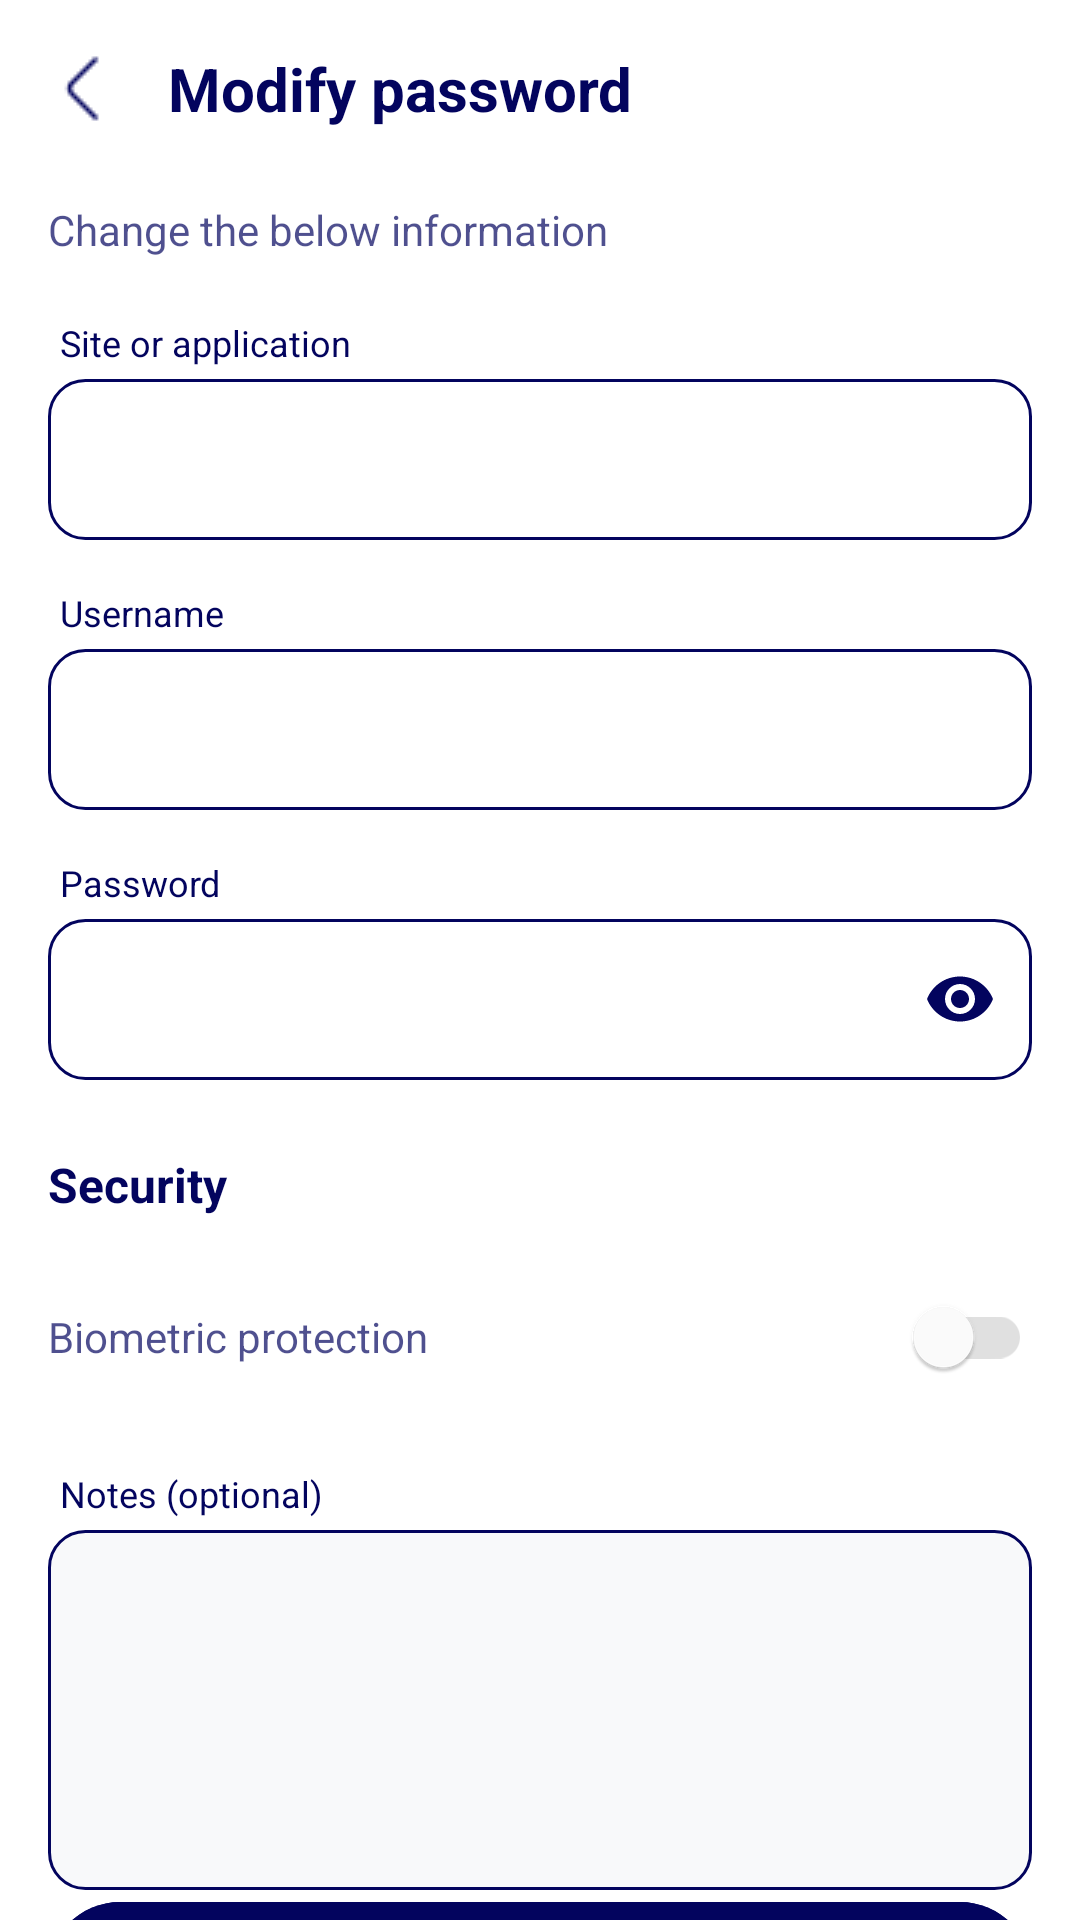

Icons on this 1080x1920 Android screen, each with the point to tap as [x,y]:
Back: [82,88]
